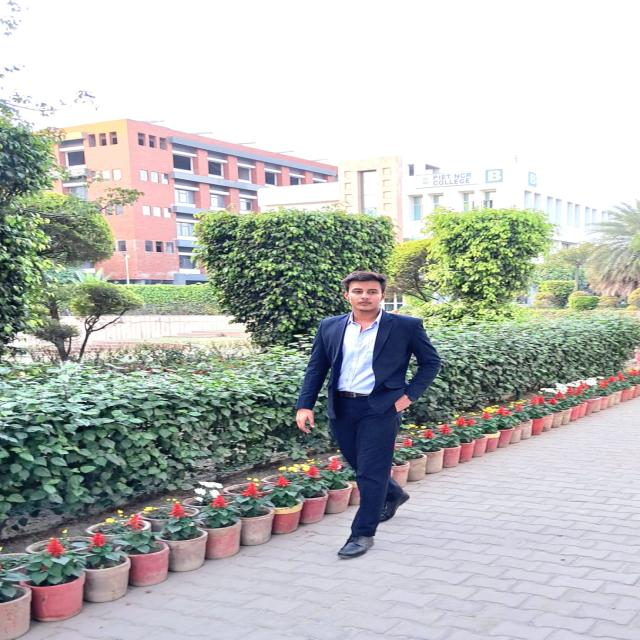uniform: (294, 308, 442, 538)
